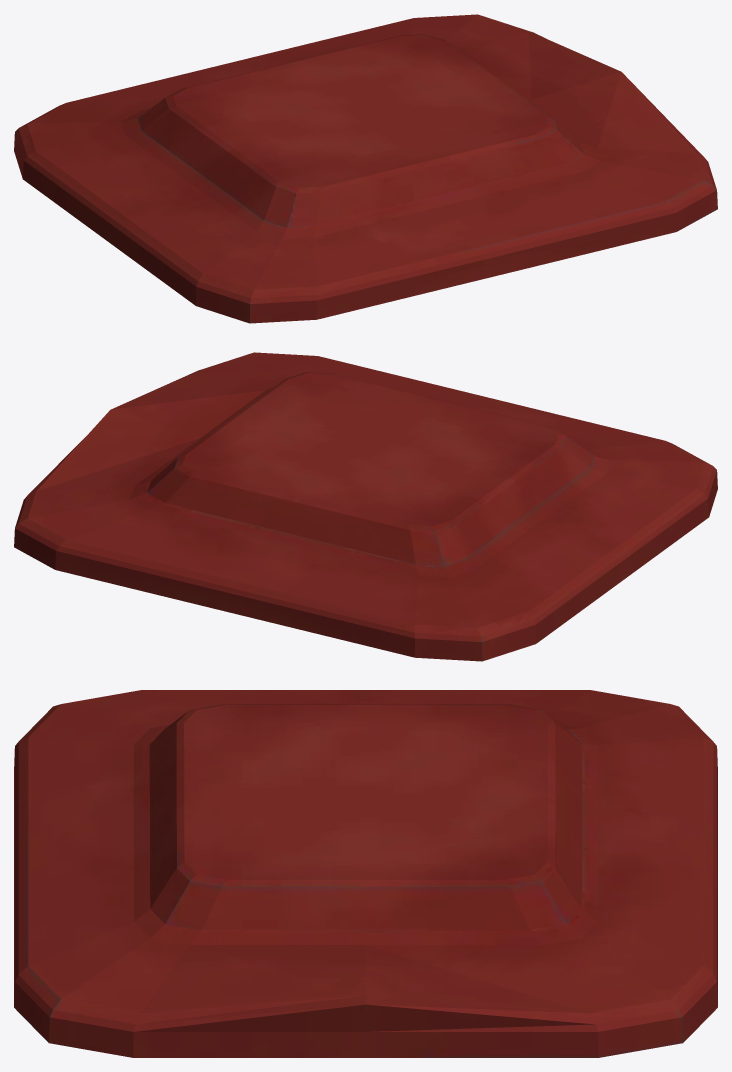
The model's file is strProp_50.glb.
3 views of the same model, one above another, from view 1: azimuth 30°, elevation 25°; view 2: azimuth 150°, elevation 25°; view 3: azimuth 270°, elevation 25° (orthographic). The views are drawn at different scales.
Parts seen in each view (by area): view 1: geometry_0; view 2: geometry_0; view 3: geometry_0.
Boxes of the visible parts, <box> form: geometry_0: <box>14,14,717,323</box>; geometry_0: <box>14,352,717,661</box>; geometry_0: <box>14,690,717,1057</box>.
Size of the model in its own units: 0.6011 by 0.0779 by 0.529.
1 material, 1 textured.
